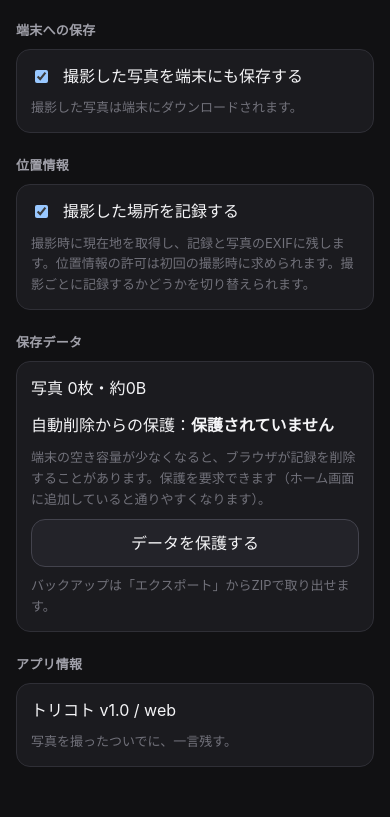
タグ設定 › 保存データの保護状態を表示し、要求できる
(page scrolled)
Expected: the text "保護されていません" is shown, [191, 415, 334, 435]
Click the button "データを保護する". click: {"x": 195, "y": 543}
box: [31, 519, 359, 567]
(page scrolled)
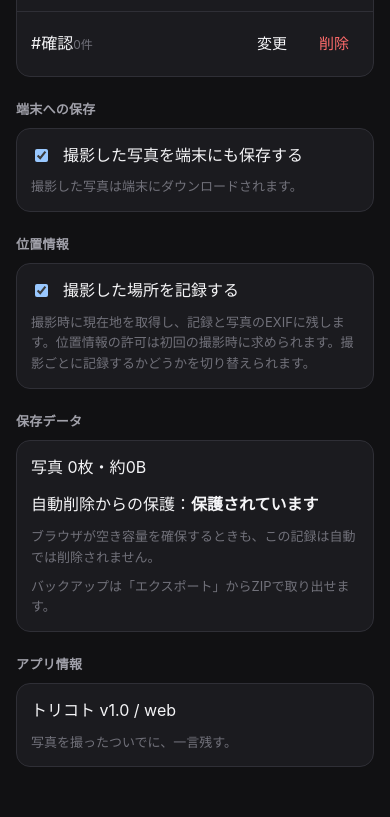
Now the text "保護されています" is shown, box [191, 494, 318, 514]
Now the button "データを保護する" is gone
